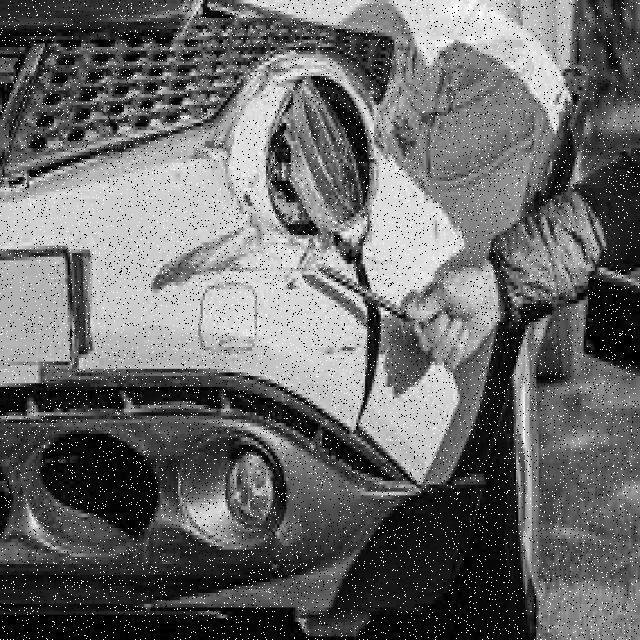front-bumper-dent: (0, 186, 502, 591)
